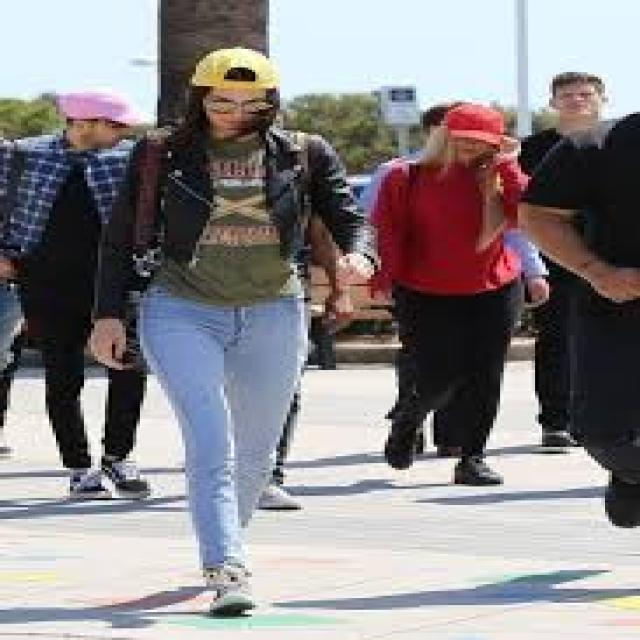cap: (168, 42, 318, 126), (426, 86, 524, 165), (49, 79, 143, 140)
